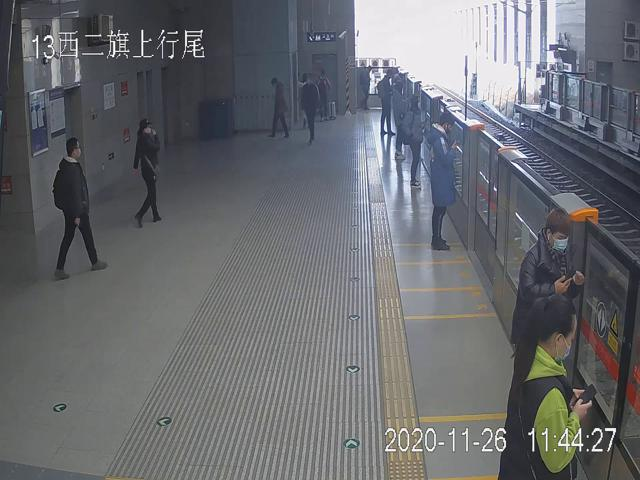person: (500, 294, 594, 480), (510, 208, 585, 350), (53, 137, 107, 277), (426, 109, 457, 252), (133, 119, 162, 228), (402, 94, 423, 190), (268, 76, 292, 138), (391, 83, 409, 163), (300, 76, 319, 145)
